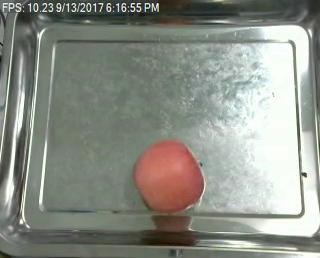apple: (132, 139, 206, 213)
